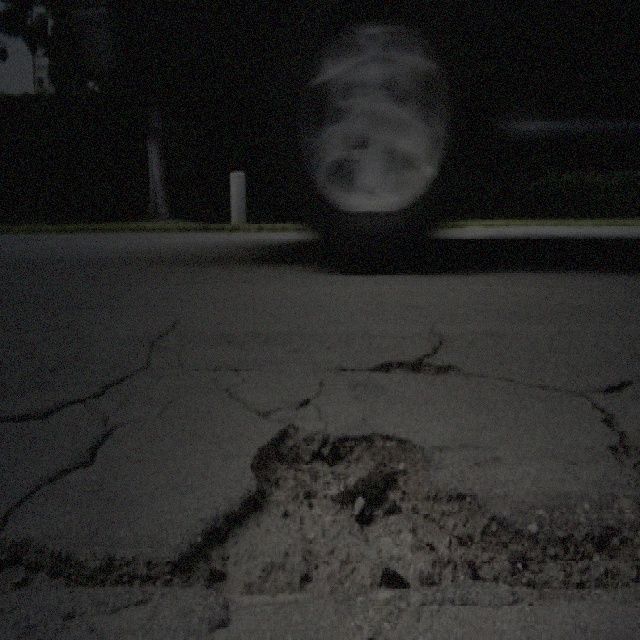pothole: (165, 414, 538, 606)
